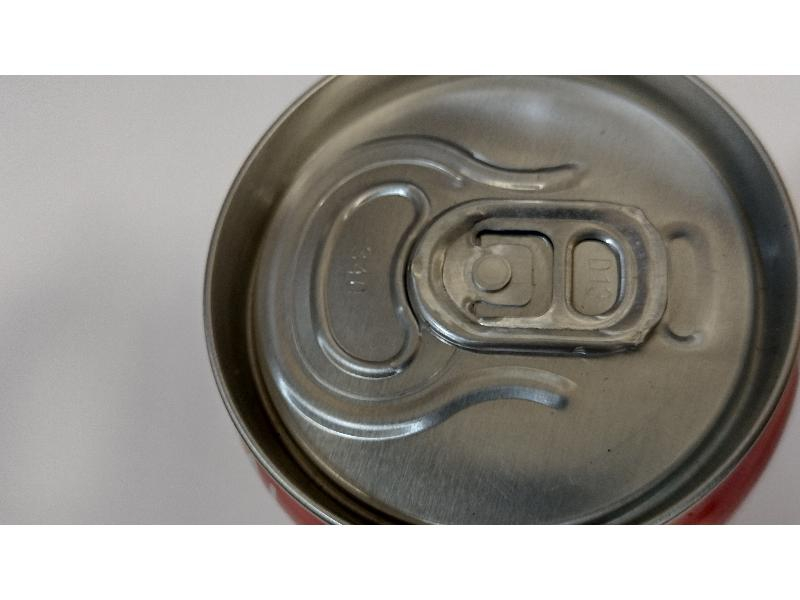can: (208, 72, 794, 522)
